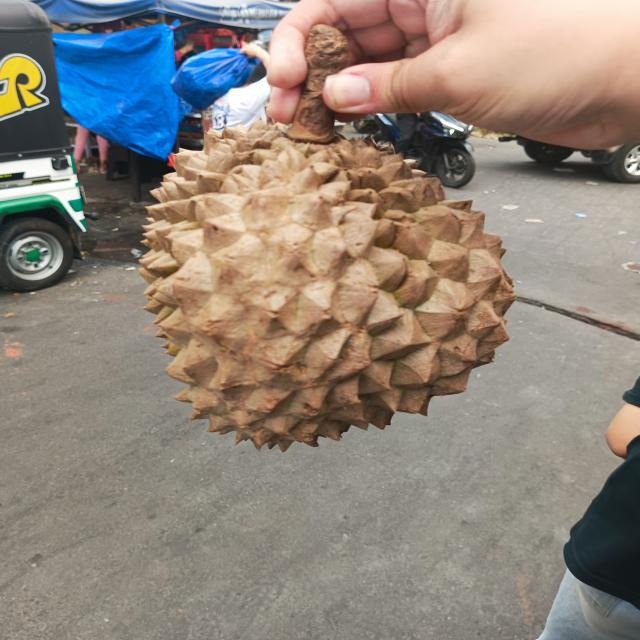mature: (134, 118, 515, 450)
